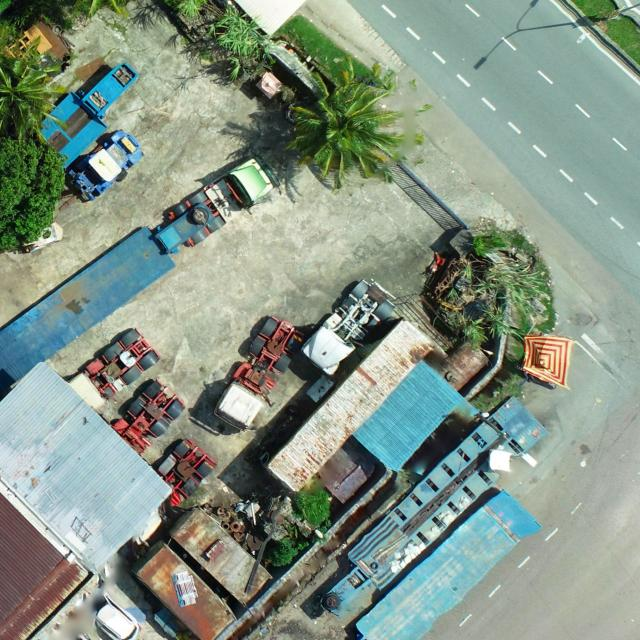Tree: (284, 54, 430, 190), (435, 225, 558, 348), (0, 28, 71, 145), (0, 136, 70, 253), (207, 2, 291, 84), (56, 0, 140, 22), (296, 488, 332, 530), (165, 0, 212, 20), (266, 538, 296, 567)
